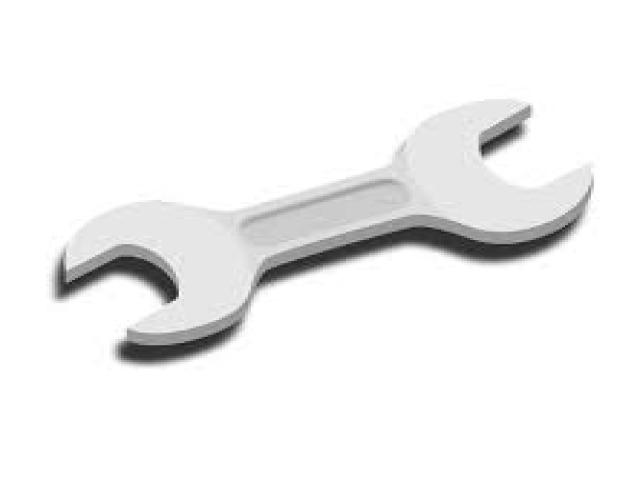Wrench: (64, 99, 593, 345)
